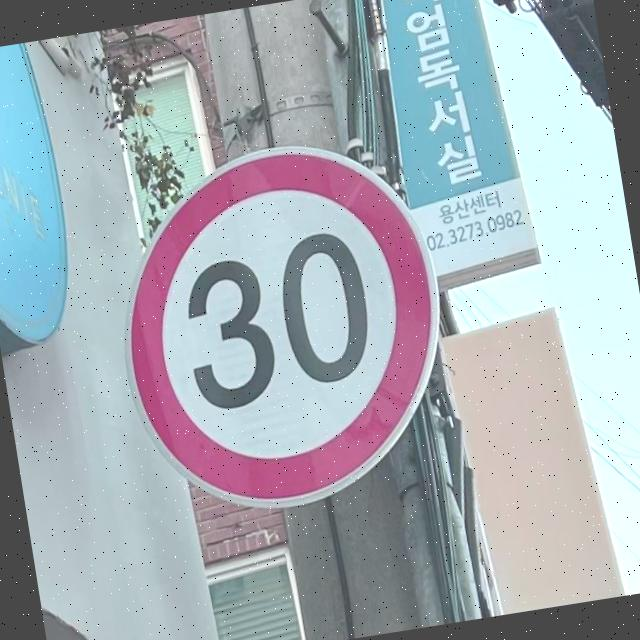Ograniczenie predkosci do 30: (97, 120, 466, 528)
